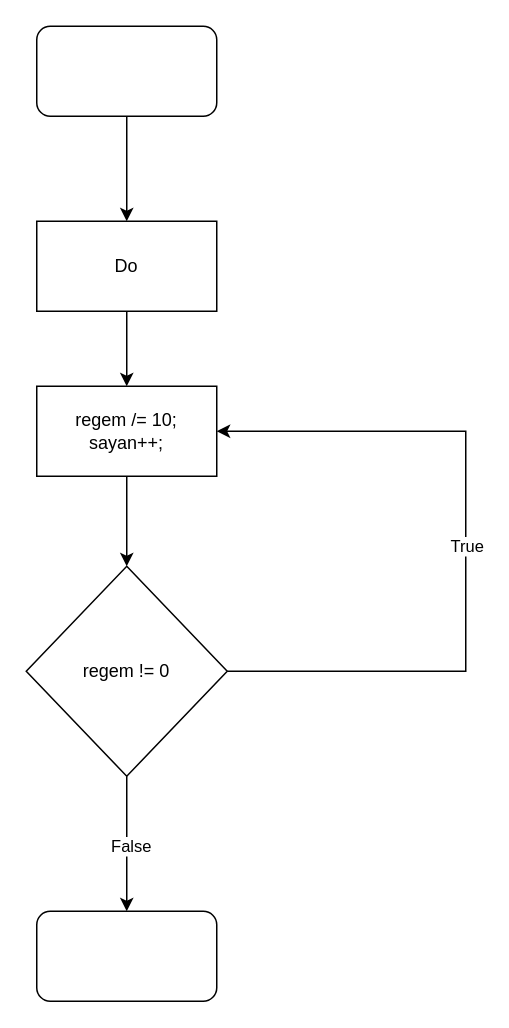
The diagram is 509 pixels wide and 1028 high, and some of its shapes have lost their labels. The centre of each missing label's shape, as x and y in pixels:
"End" goes at (x=126, y=955).
"Start" goes at (x=126, y=70).
